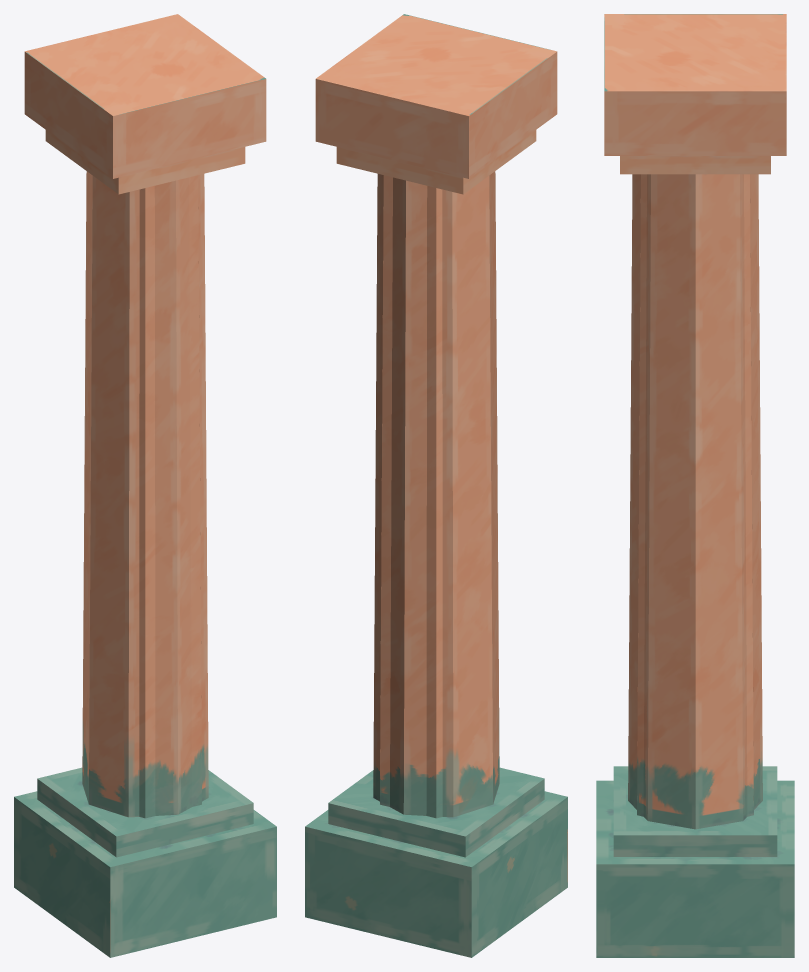
File: pillar.bundle.fbx
The picture shows the model from 3 angles, left to right: view 1: azimuth 30°, elevation 25°; view 2: azimuth 150°, elevation 25°; view 3: azimuth 270°, elevation 25°; orthographic projection. The views are drawn at different scales.
Visible parts, largest first — view 1: pillar, pillar_low, pillar_s02, pillar_s03, pillar_s04, pillar_s00, pillar_s01; view 2: pillar, pillar_low, pillar_s04, pillar_s02, pillar_s03, pillar_s00; view 3: pillar, pillar_low, pillar_s02, pillar_s04, pillar_s00, pillar_s03, pillar_s01.
Boxes of the visible parts, x1,y1,x2,y2 form: pillar: [18, 18, 270, 949]; pillar_low: [14, 14, 276, 957]; pillar_s02: [84, 461, 208, 743]; pillar_s03: [88, 285, 206, 537]; pillar_s04: [90, 185, 205, 397]; pillar_s00: [82, 715, 208, 816]; pillar_s01: [91, 174, 204, 228]; pillar: [311, 18, 563, 949]; pillar_low: [305, 14, 567, 957]; pillar_s04: [347, 160, 495, 451]; pillar_s02: [374, 457, 498, 758]; pillar_s03: [375, 265, 497, 533]; pillar_s00: [375, 744, 499, 816]; pillar: [604, 17, 786, 950]; pillar_low: [596, 14, 794, 957]; pillar_s02: [628, 466, 758, 789]; pillar_s04: [631, 174, 758, 467]; pillar_s00: [628, 729, 762, 828]; pillar_s03: [630, 316, 757, 483]; pillar_s01: [625, 156, 765, 205].
Bounding box in the file's own units: 2.5 × 12 × 2.5.
1 material, 1 textured.
